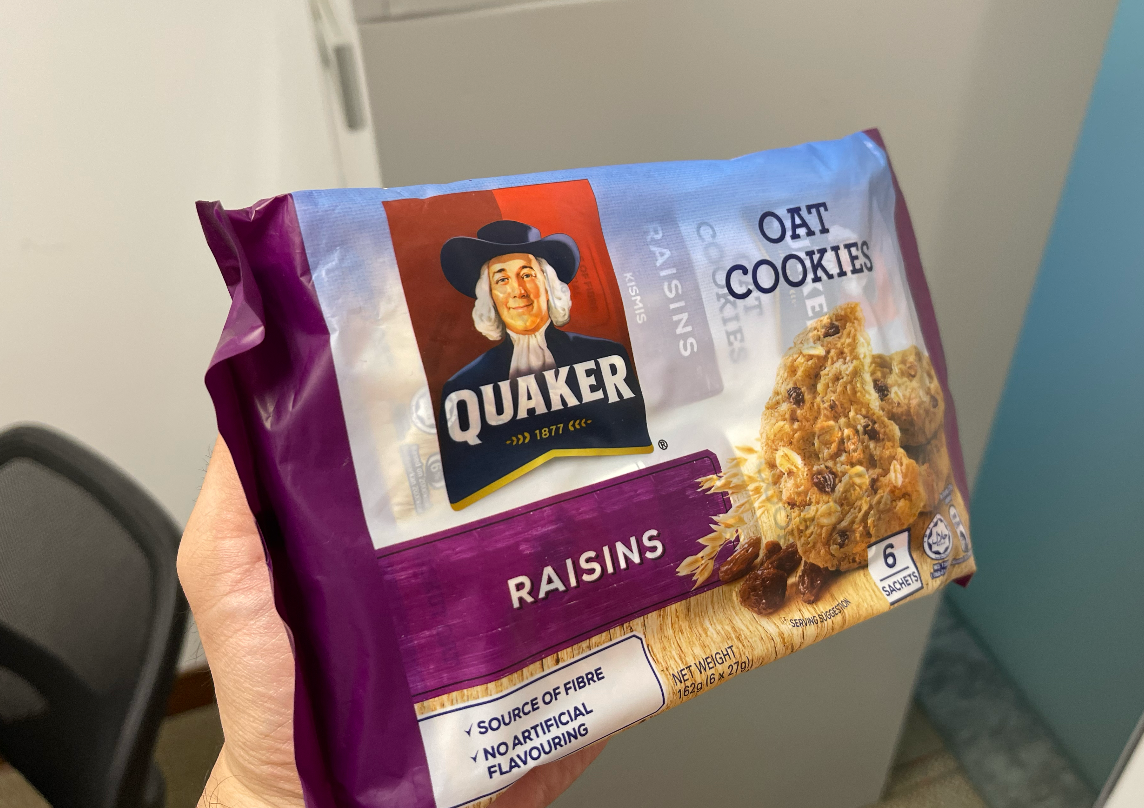cookies_100g-199g: (367, 203, 955, 623)
